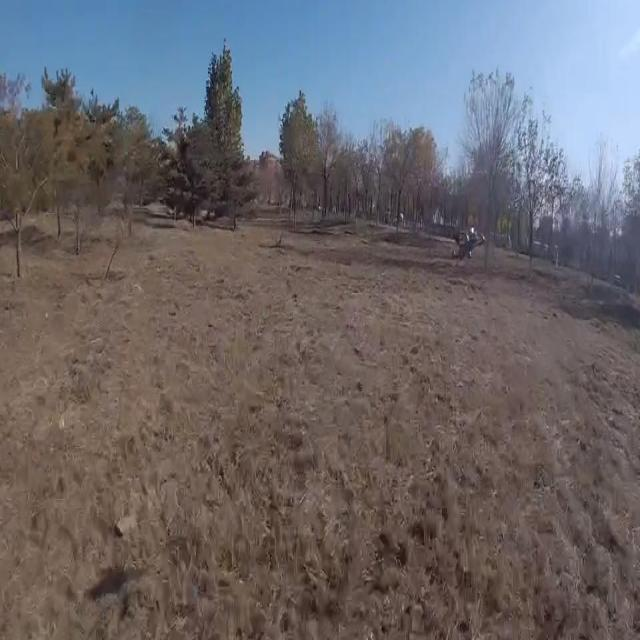drone: (450, 215, 487, 272)
